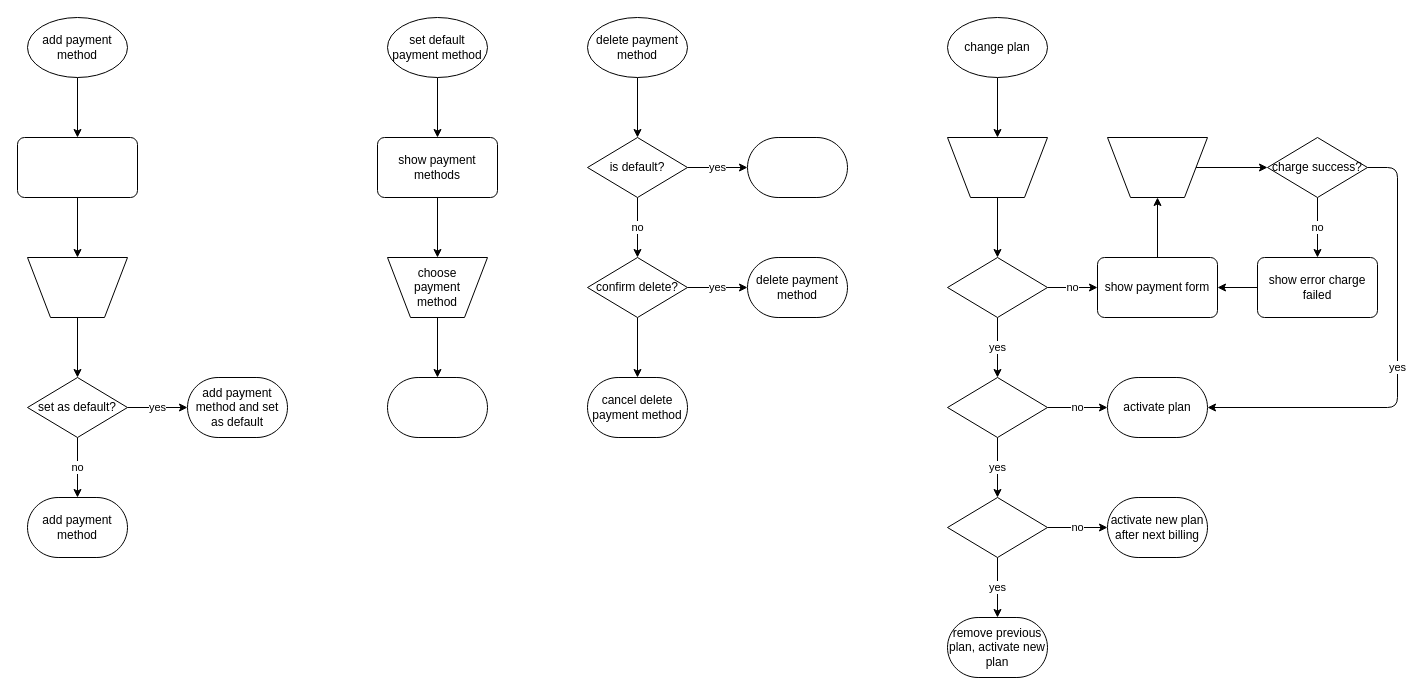
Image size: 1423x695. Some labels were removed from this diagram. The centre of each missing label's shape, as x and y in pixels:
"choose a plan" goes at point 997,167.
"fill add form" goes at point 77,287.
"fill payment form" goes at point 1157,167.
"have active paid plan?" goes at point 997,407.
"have payment method?" goes at point 997,287.
"set as default payment method" goes at point 437,407.
"show add form" goes at point 77,167.
"show error can't delete default payment method" goes at point 797,167.
"upgrade?" goes at point 997,527.
